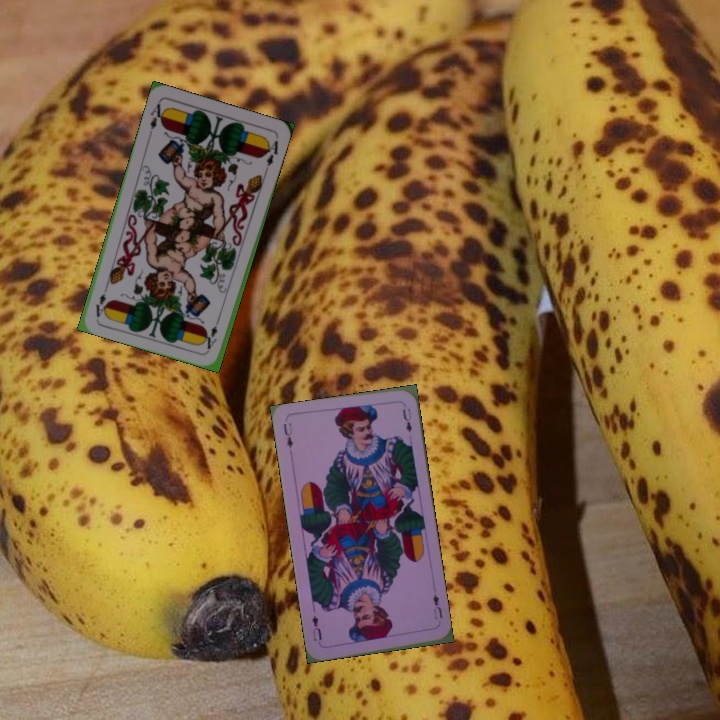EA: (145, 98, 168, 138), (203, 313, 222, 352)
EU: (429, 590, 445, 628), (279, 419, 295, 450)
